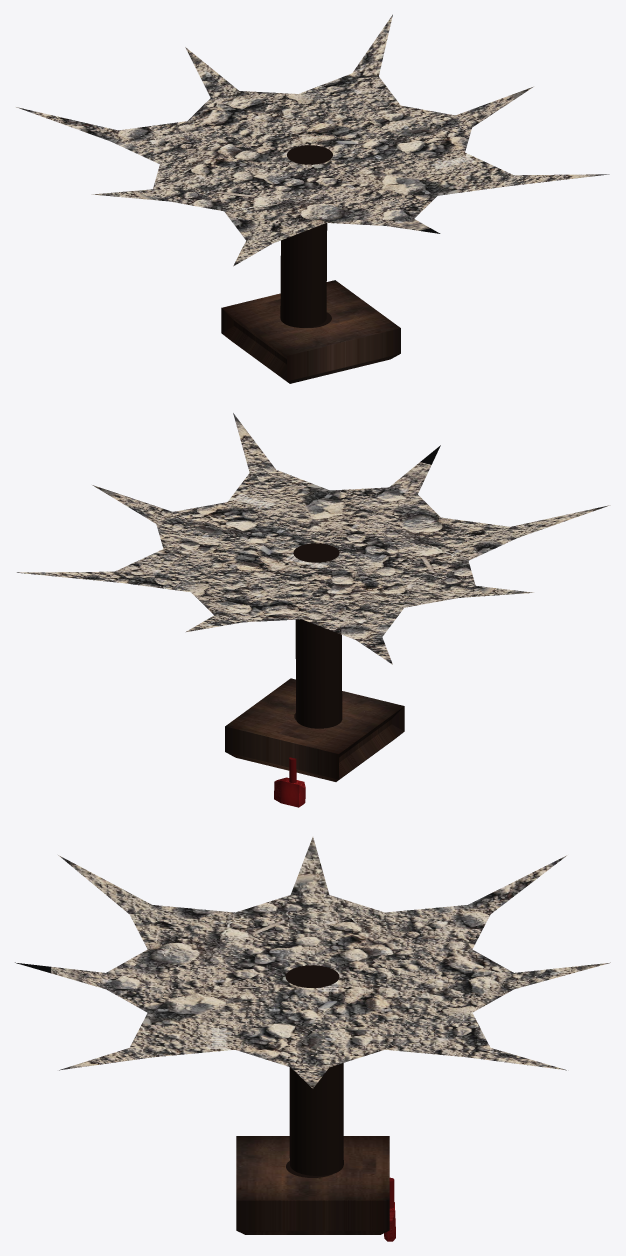
Rendered from Mailbox.glb.
3 views of the same model, one above another, from view 1: azimuth 30°, elevation 25°; view 2: azimuth 150°, elevation 25°; view 3: azimuth 270°, elevation 25° (orthographic). The views are drawn at different scales.
Visible parts, largest first — view 1: flooring, mailbox, pole; view 2: flooring, mailbox, pole, flagpole; view 3: flooring, mailbox, pole.
Boxes of the visible parts, box(x1,y1,x2,y2) form: flooring: box(16, 14, 609, 266); mailbox: box(221, 145, 400, 383); pole: box(280, 223, 327, 327); flooring: box(17, 413, 610, 664); mailbox: box(225, 543, 404, 781); pole: box(295, 619, 342, 728); flagpole: box(274, 757, 305, 807); flooring: box(15, 837, 610, 1088); mailbox: box(236, 965, 389, 1234); pole: box(289, 1063, 343, 1175).
Size of the model in its own units: 4.68 by 2.4 by 4.68.
Materials: 3 (3 with a texture image).
